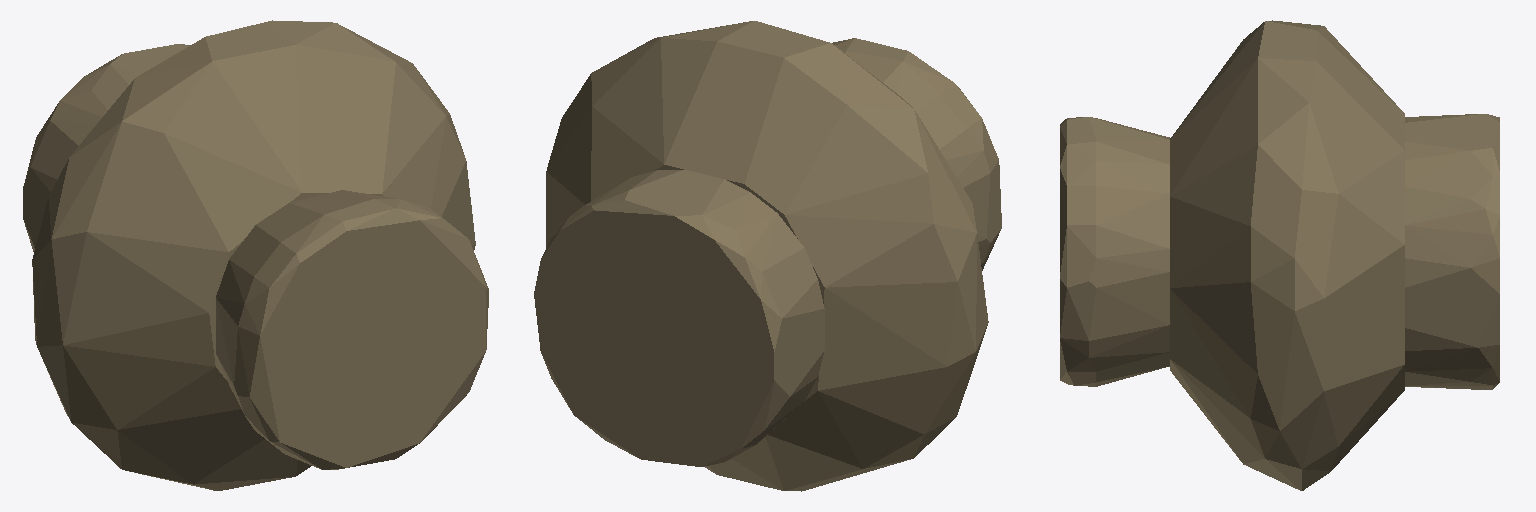
URDF robot description (Vase_W_Hole):
<?xml version="1.0"?>
<robot name="Vase_W_Hole">
  <link name="base_link">
    <visual>
      <origin xyz="0 0 0" rpy="0 0 0" />
      <geometry>
        <mesh filename="Vase_W_Hole.obj" />      
      </geometry>
      <material name="tan">
        <color rgba="0.55 0.5 0.4 1" />
      </material>
    </visual>
    <collision>
      <origin xyz="0 0 0" rpy="0 0 0" />
      <geometry>
        <mesh filename="Vase_W_Hole.obj" />
      </geometry>
    </collision>
  </link>
</robot>

--- Render facts (derived) ---
3 views of the same robot in one strip: view 1: azimuth 30°, elevation 25°; view 2: azimuth 150°, elevation 25°; view 3: azimuth 270°, elevation 25° (orthographic).
Model Vase_W_Hole with 1 links and 0 joints (none), rooted at base_link, posed every joint at zero.
Visible links, largest first — view 1: base_link; view 2: base_link; view 3: base_link.
Boxes of the visible links, x1,y1,x2,y2 form: base_link: (23,20,488,490); base_link: (534,21,1001,491); base_link: (1060,20,1499,490).
Bounding box of the posed robot: 41.15 × 38.58 × 40.51 m (x, y, z).
1 mesh visuals loaded from 1 distinct referenced files (1 OBJ).
